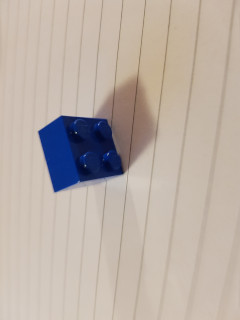2x2 blue: (34, 113, 127, 196)
